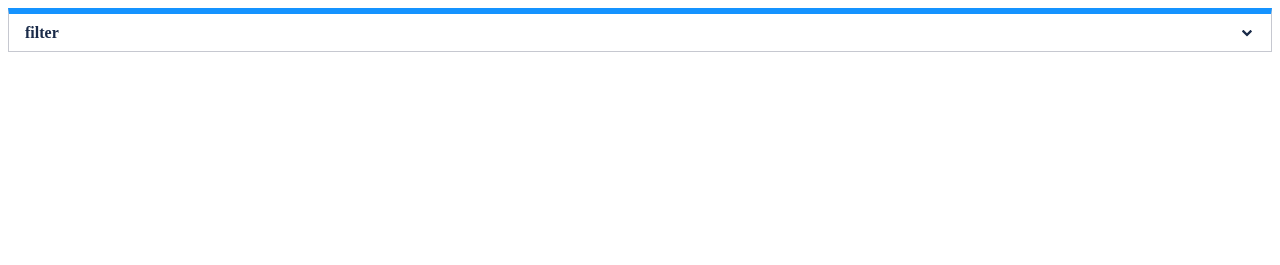
Scenario: <FilterSection /> › should open and close the filter options on click
Click the element with class "title" at (640, 30), box [8,8,1272,52]
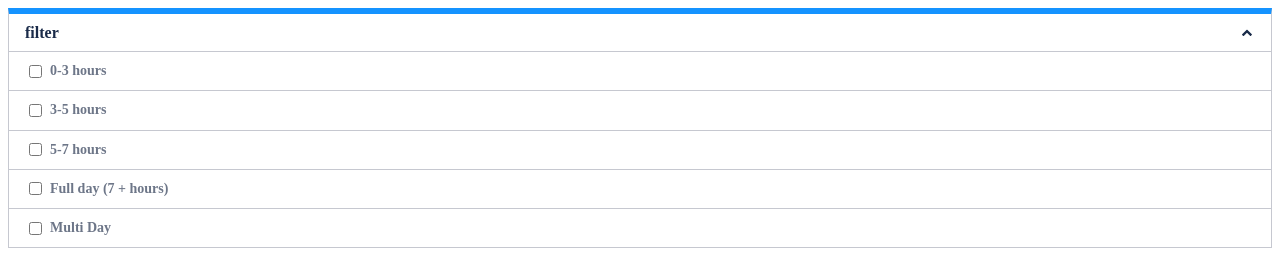
Expected: the element with class "rotate-caret" is shown
Click the element with class "title" at (640, 30), box [8,8,1272,52]
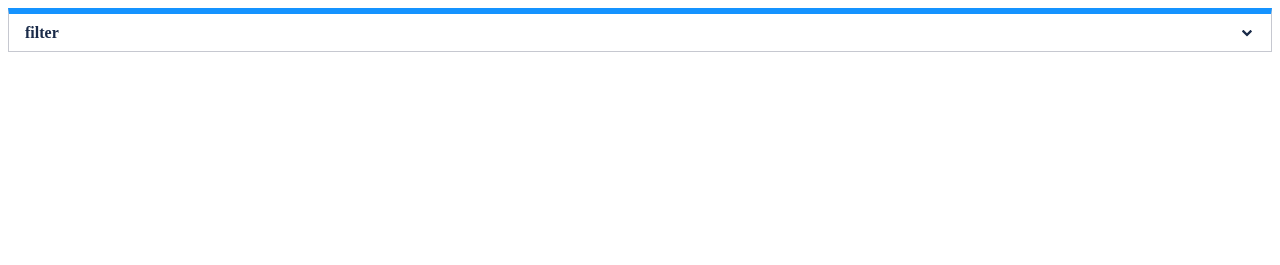
Expected: the form with class "open" is gone
